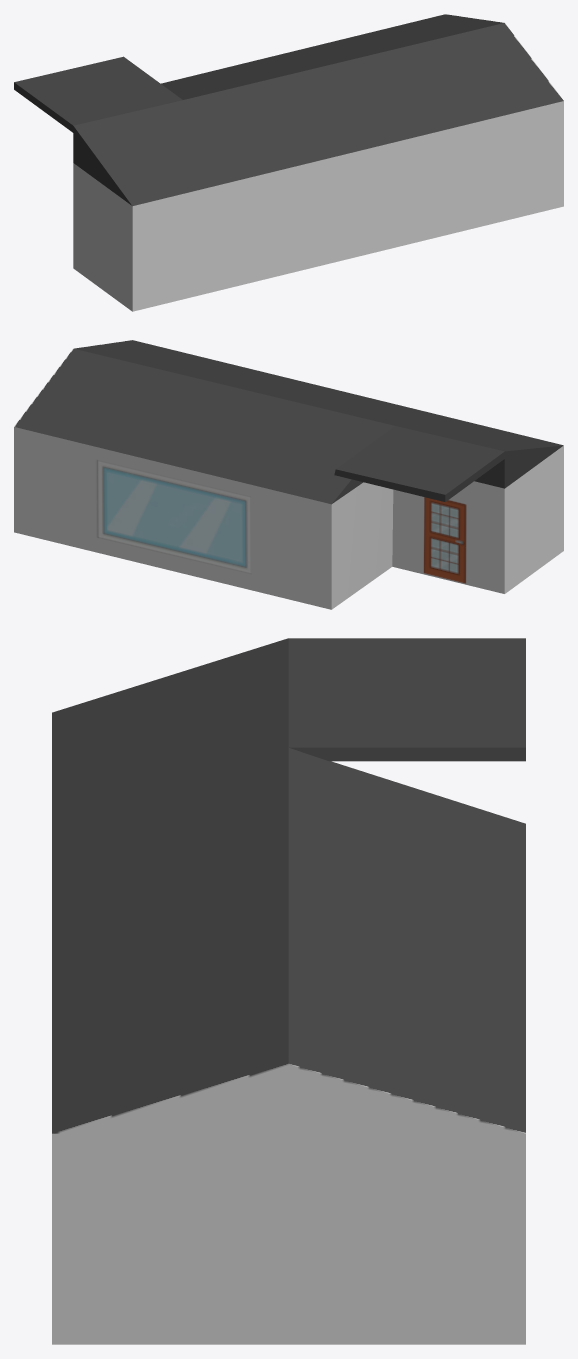
The model's file is CasaEstranha.fbx.
The picture shows the model from 3 angles, top to bottom: view 1: azimuth 30°, elevation 25°; view 2: azimuth 150°, elevation 25°; view 3: azimuth 270°, elevation 25°; orthographic projection. The views are drawn at different scales.
Visible parts, largest first — view 1: CasaEstranha; view 2: CasaEstranha; view 3: CasaEstranha.
Boxes of the visible parts, x1,y1,x2,y2 form: CasaEstranha: [14, 14, 563, 311]; CasaEstranha: [14, 340, 563, 609]; CasaEstranha: [52, 638, 525, 1344].
Bounding box in the file's own units: 2707 × 856 × 1288.
